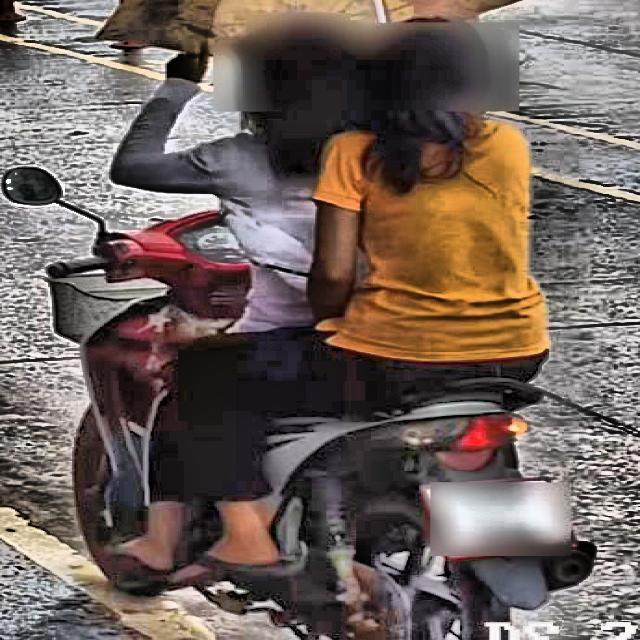motorcycle: (0, 148, 613, 640)
